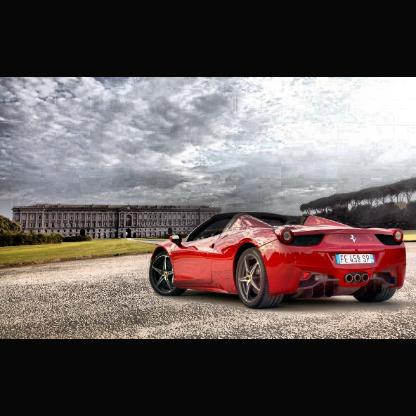Ferrari 458 Italia Convertible 2012: (150, 212, 407, 310)
